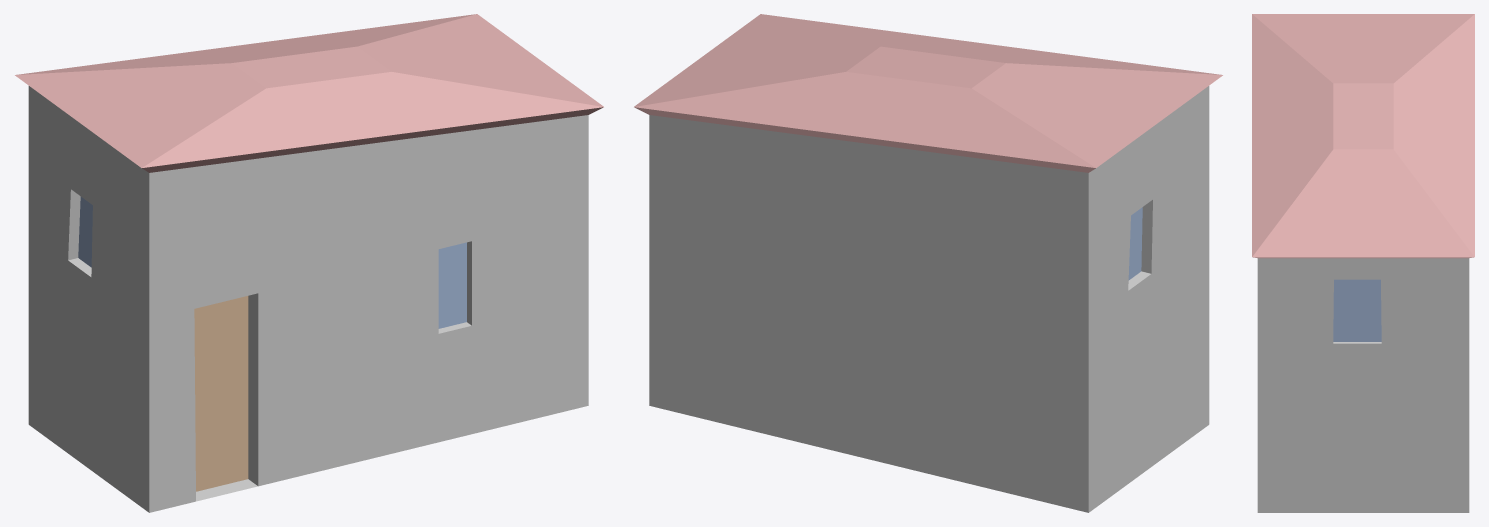
The model's file is CasaTres.fbx.
3 renders of one model, left to right at view 1: azimuth 30°, elevation 25°; view 2: azimuth 150°, elevation 25°; view 3: azimuth 270°, elevation 25°, orthographic. The views are drawn at different scales.
Visible parts, largest first — view 1: CasaTres; view 2: CasaTres; view 3: CasaTres.
Boxes of the visible parts, x1=… form: CasaTres: x1=15, y1=14, x2=603, y2=512; CasaTres: x1=634, y1=14, x2=1222, y2=512; CasaTres: x1=1252, y1=14, x2=1474, y2=512.
Bounding box in the file's own units: 1278 × 934 × 608.
